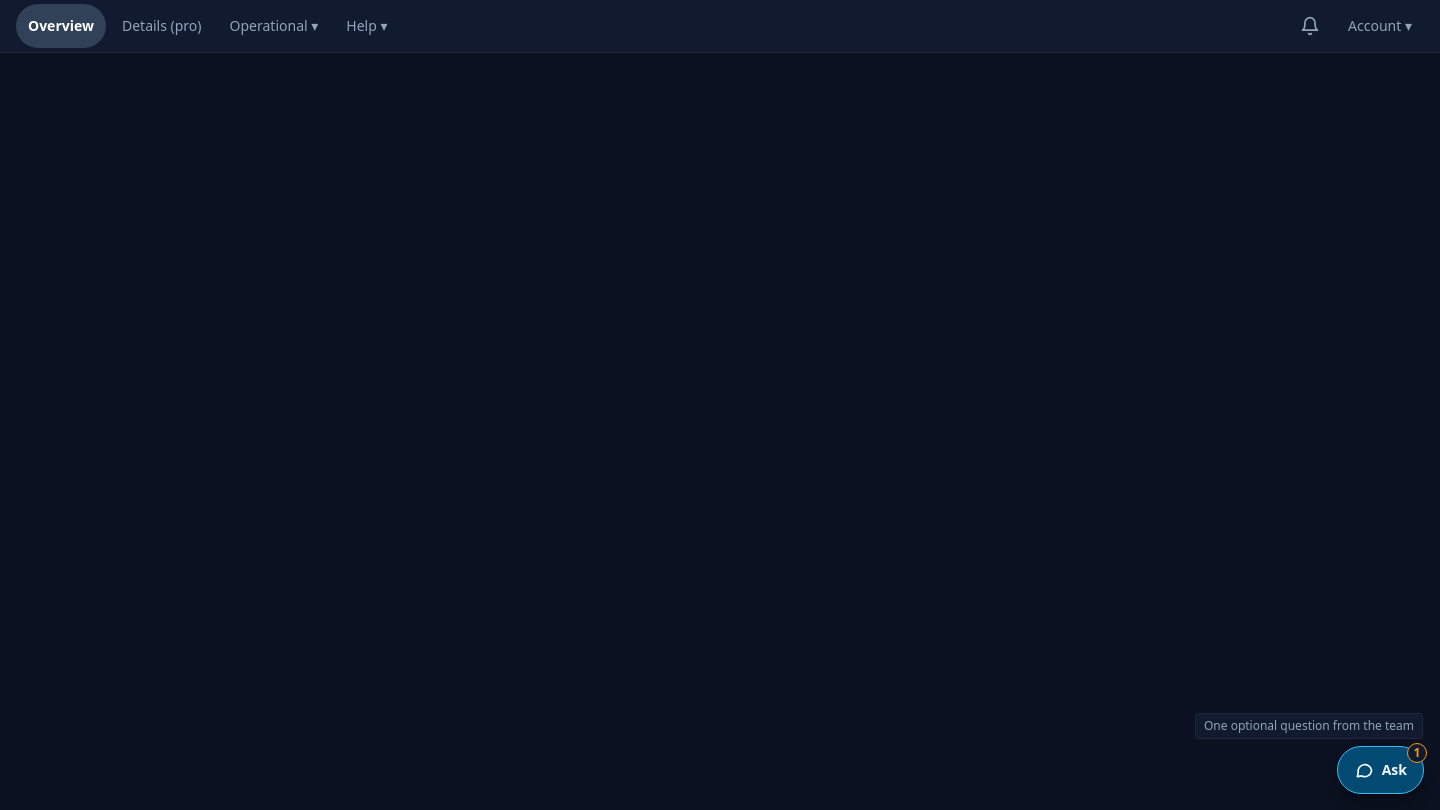
Test case: Scenario: promoter question › tapping 9 asks what we do best, with only the what-works codes
This screenshot has width=1440, height=810.
Click the button with aria-label "Ask (one optional question waiting)" at coordinates (1380, 770), box [1337,746,1424,794]
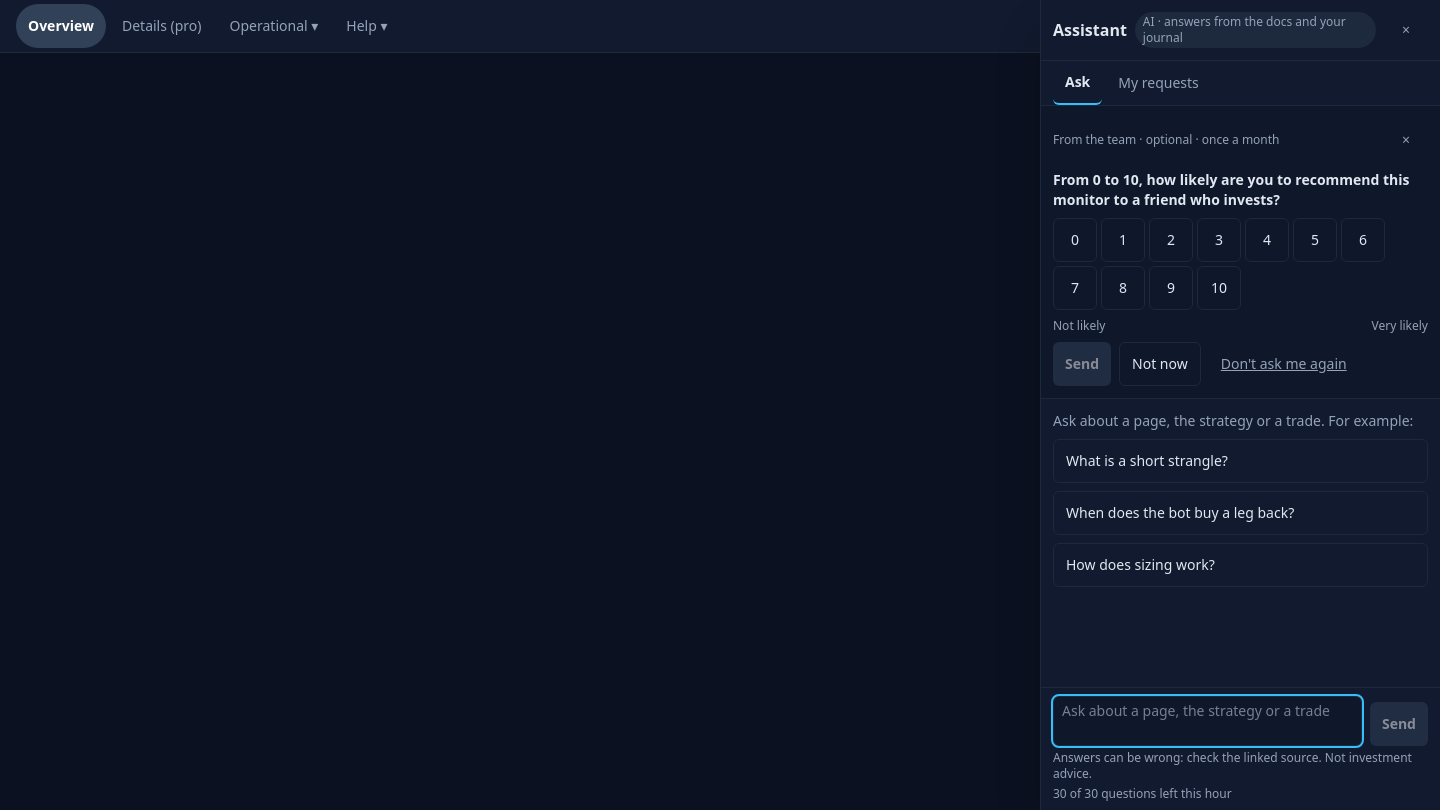
Click the button "9" at coordinates (1171, 288), box [1149,266,1193,310]
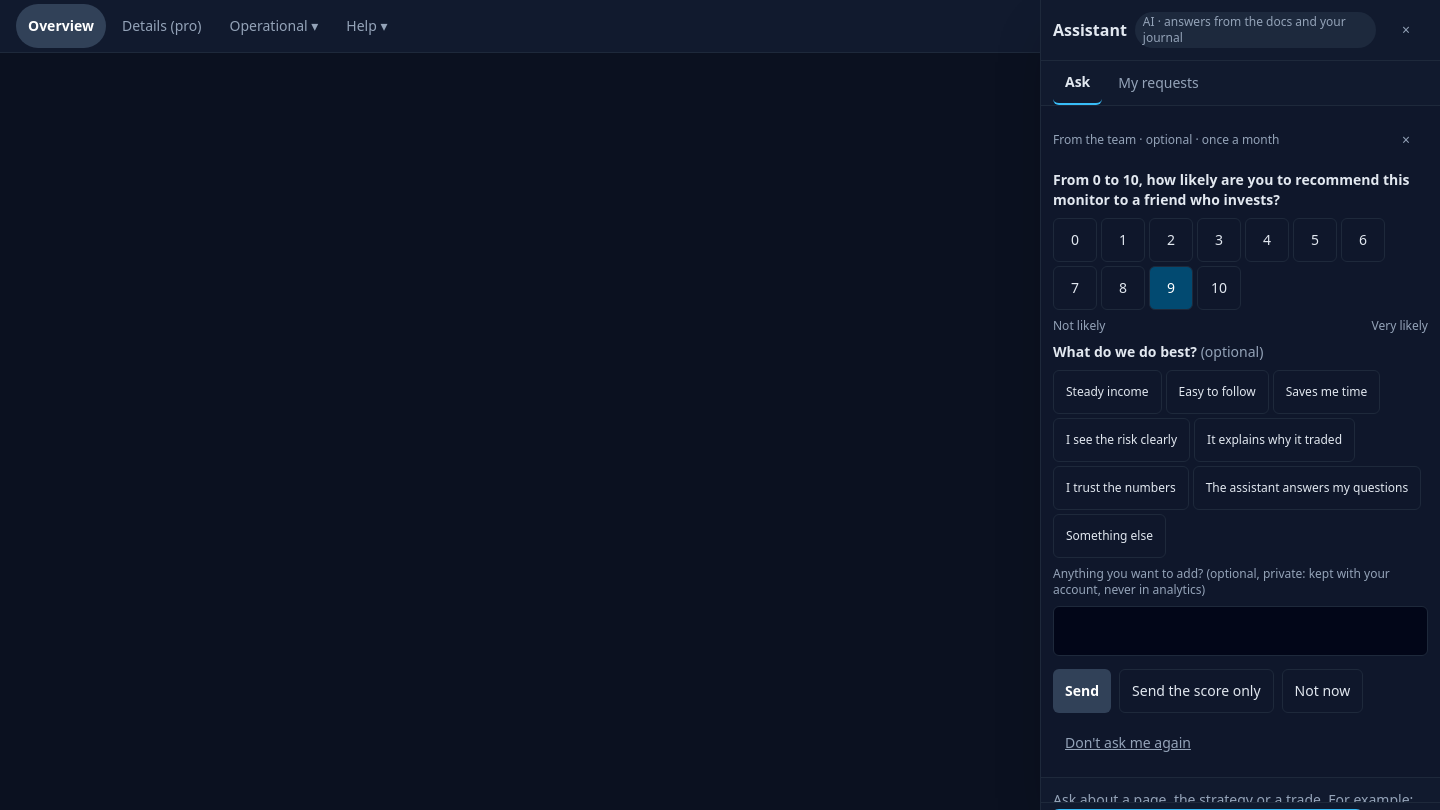
Expected: the text "What do we do best?" is shown, [1053,342,1197,361]
Expected: the button "Something else" is shown, [1053,514,1166,558]
